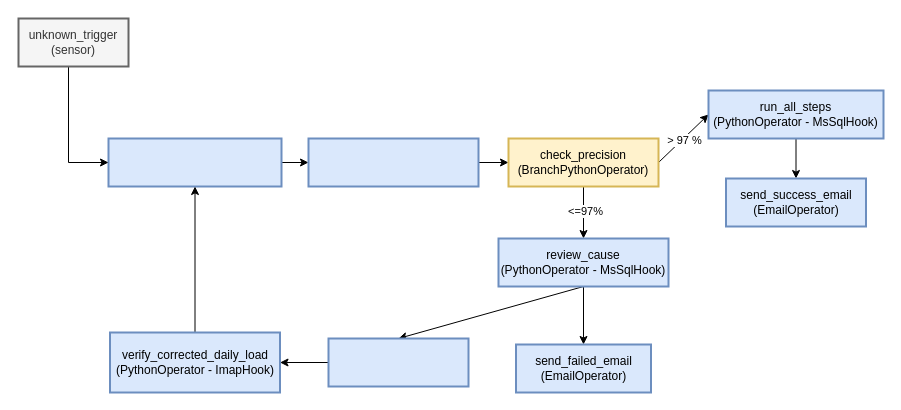
Some shapes in this 901 by 410 pixel diagram are drawn without their labels. Here are the shapes that lost their labels. From the top down, the centre of each, then its label:
point 194,162: create_monthly_table (PythonOperator - MsSqlHook)
point 393,162: run_initial_step (PythonOperator - MsSqlHook)
point 398,362: request_reload (EmailOperator)
